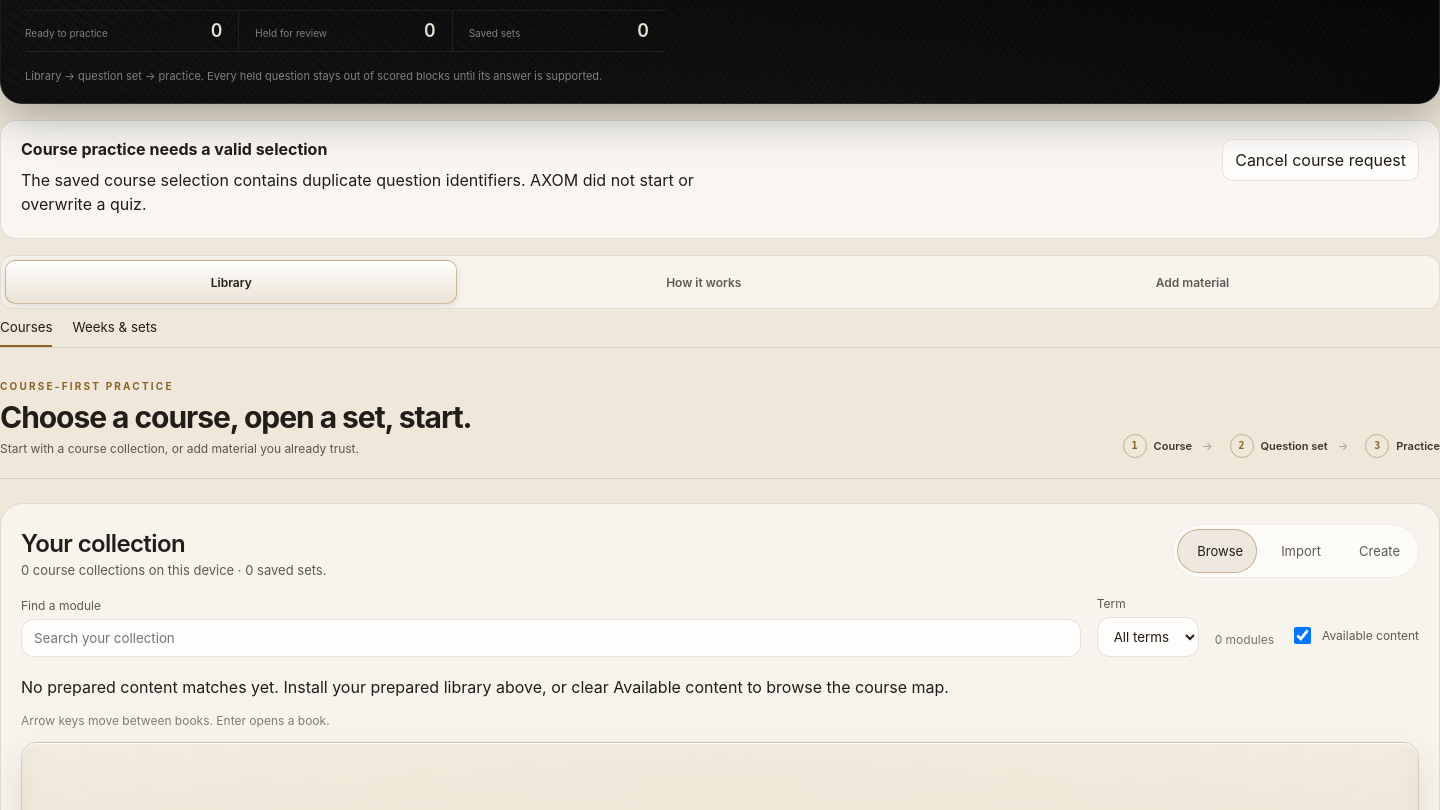
Test: QuestionWorkspacePage exact, fail-closed Course Tracker handoff › does not consume malformed handoffs and allows explicit cancellation
(page scrolled)
Expected: the heading "Course practice needs a valid selection" is shown, [21,139,327,159]
Click the button "Cancel course request" at (1321, 160), box [1222,139,1419,181]
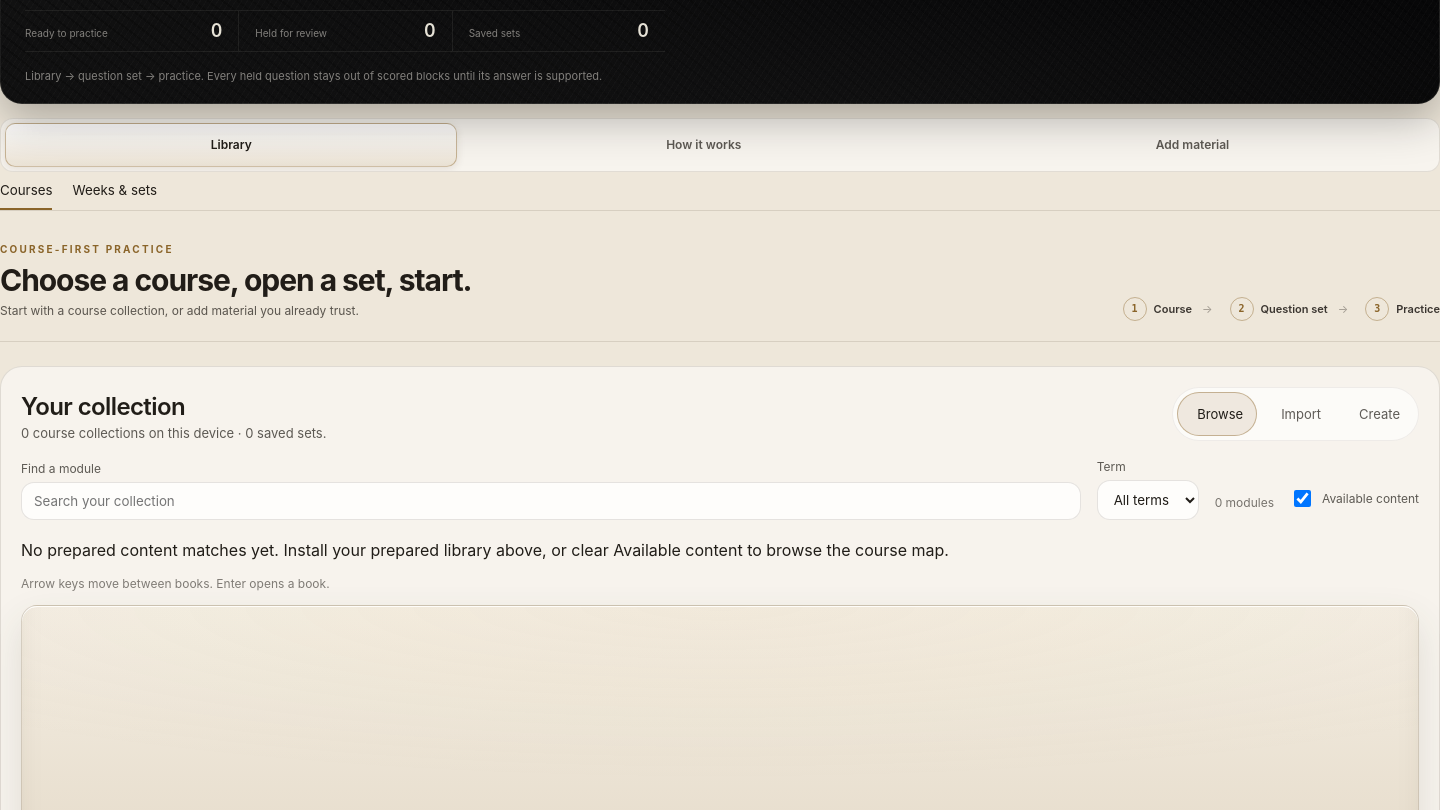
Now the heading "Course practice" is gone
